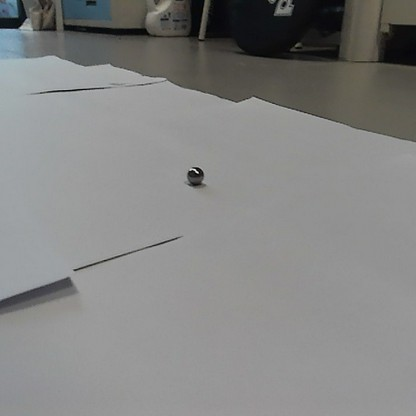ironball: (182, 165, 204, 185)
